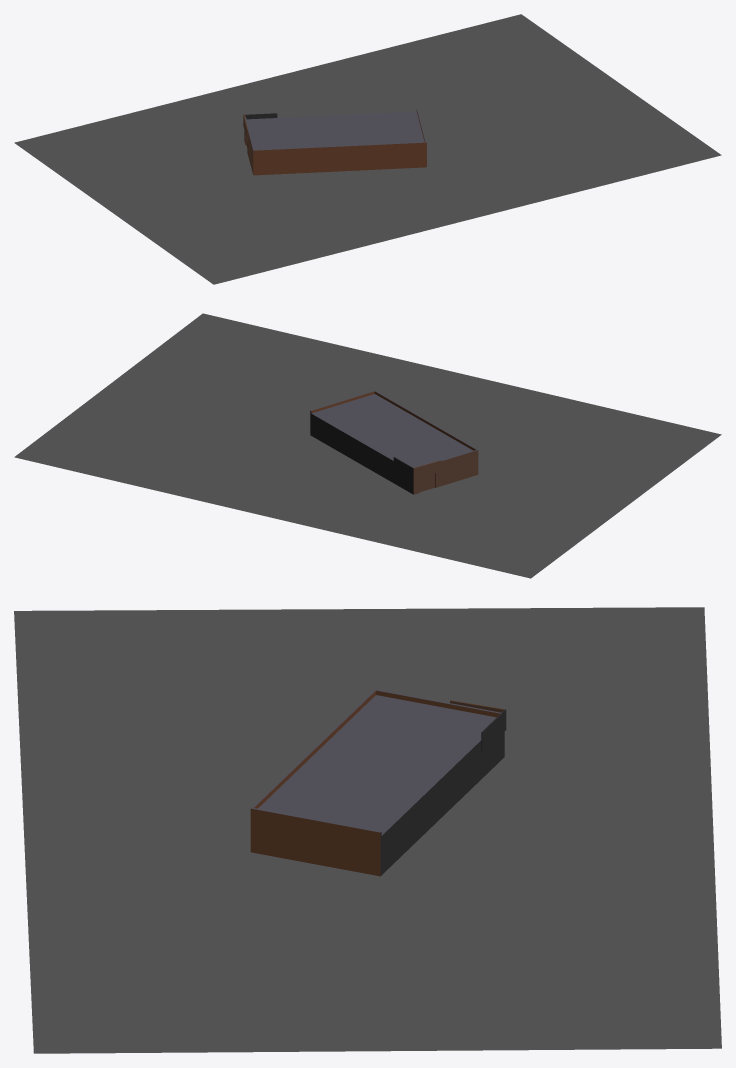
Rendered from 1493-market-street.glb.
The picture shows the model from 3 angles, top to bottom: view 1: azimuth 30°, elevation 25°; view 2: azimuth 150°, elevation 25°; view 3: azimuth 270°, elevation 25°; orthographic projection. The views are drawn at different scales.
Parts seen in each view (by area): view 1: LOD0; view 2: LOD0; view 3: LOD0.
Boxes of the visible parts, <box> form: LOD0: <box>14,14,721,284</box>; LOD0: <box>14,313,721,578</box>; LOD0: <box>14,607,721,1053</box>.
Size of what is drawn, in the model's own units: 90.88 by 4.48 by 60.9.
1 material, 1 textured.
